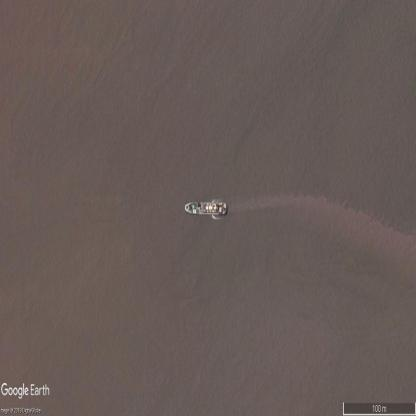ship: (184, 201, 226, 216)
